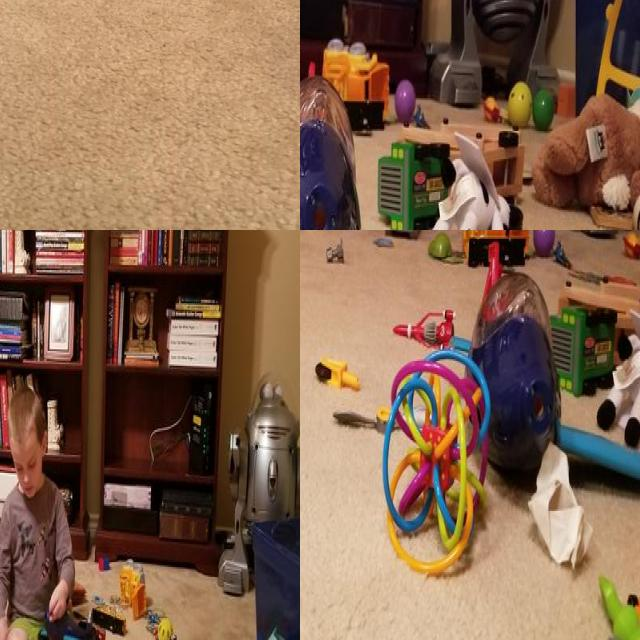toy: (466, 266, 560, 485), (531, 105, 640, 215), (300, 76, 363, 230), (552, 273, 622, 405), (546, 405, 640, 497), (320, 36, 391, 132), (603, 328, 640, 441), (392, 303, 458, 355), (596, 566, 640, 640), (311, 344, 360, 400), (39, 599, 95, 640), (467, 230, 526, 267), (464, 230, 530, 261), (118, 561, 151, 618), (96, 592, 128, 640), (506, 80, 532, 128), (532, 85, 554, 132), (396, 74, 416, 125), (610, 230, 640, 264), (325, 235, 349, 270), (550, 237, 572, 275), (429, 230, 453, 259), (628, 576, 640, 634), (533, 230, 556, 259), (373, 230, 397, 256), (484, 89, 501, 123), (154, 613, 174, 640), (92, 550, 112, 576), (417, 100, 429, 126)
